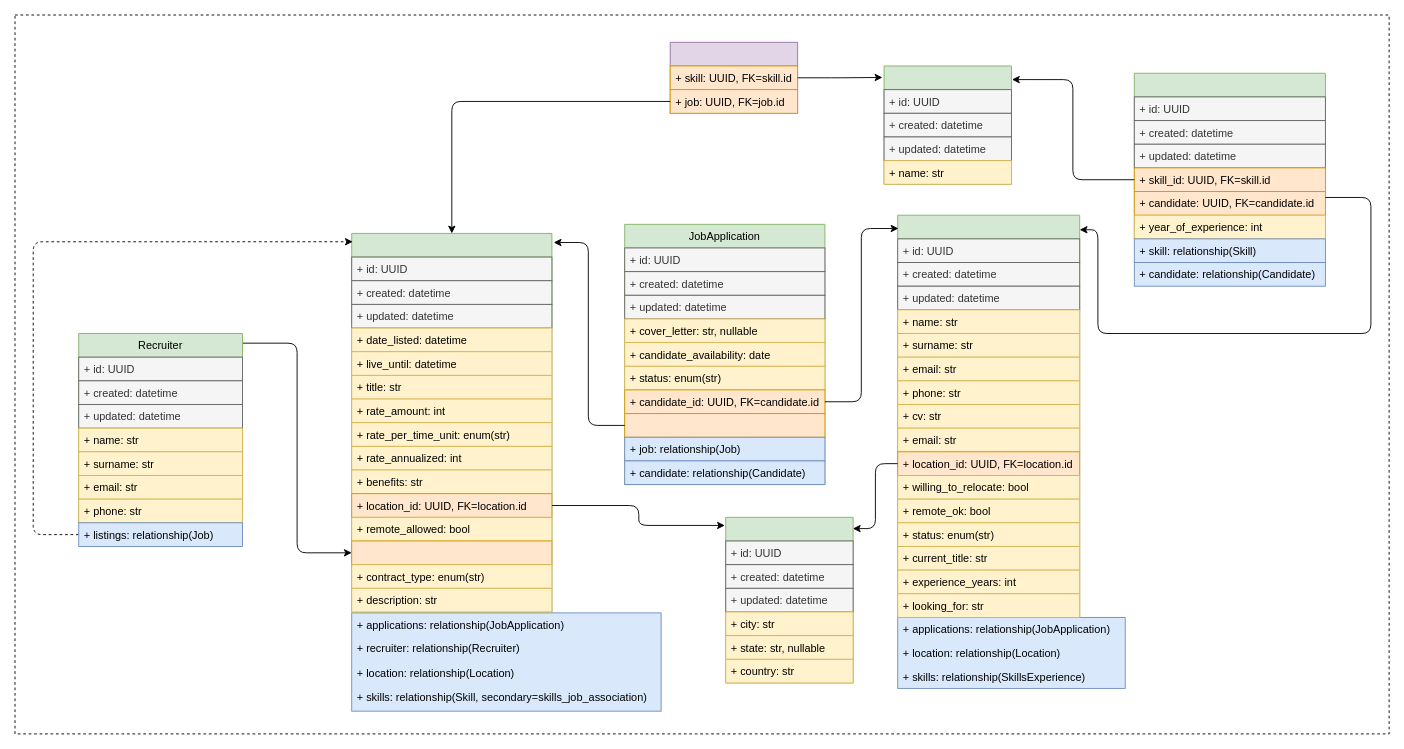
The diagram is 1404 pixels wide and 749 high, and some of its shapes have lost their labels. The box of each missing label's shape, as (x1, y1, x2, y2) in pixels:
+ job_id: UUID, FK=job.id: (624, 413, 825, 437)
+ recruiter_id: UUID, FK=recruiter.id: (351, 540, 552, 565)
Candidate: (897, 214, 1080, 617)
Job: (351, 233, 552, 612)
Location: (725, 516, 853, 683)
Skill: (883, 65, 1011, 184)
skills_job_association: (669, 41, 798, 113)
SkillsExperience: (1133, 72, 1325, 239)
